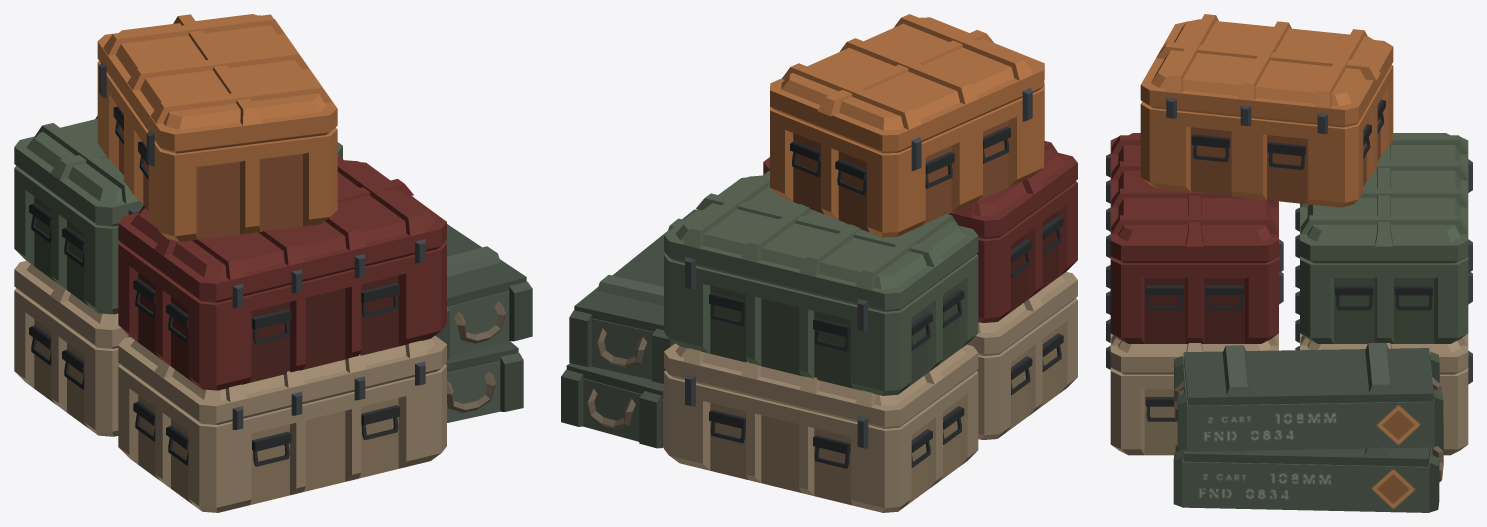
The model's file is SM_Prop_Crate_Stack_02.glb.
The picture shows the model from 3 angles, left to right: view 1: azimuth 30°, elevation 25°; view 2: azimuth 150°, elevation 25°; view 3: azimuth 270°, elevation 25°; orthographic projection. The views are drawn at different scales.
Visible parts, largest first — view 1: SM_Prop_Crate_Stack_02; view 2: SM_Prop_Crate_Stack_02; view 3: SM_Prop_Crate_Stack_02.
Boxes of the visible parts, <box> form: SM_Prop_Crate_Stack_02: <box>14,14,532,512</box>; SM_Prop_Crate_Stack_02: <box>561,14,1077,512</box>; SM_Prop_Crate_Stack_02: <box>1106,14,1472,512</box>.
Bounding box in the file's own units: 1.79 × 1.74 × 1.69.
1 material, 1 textured.
